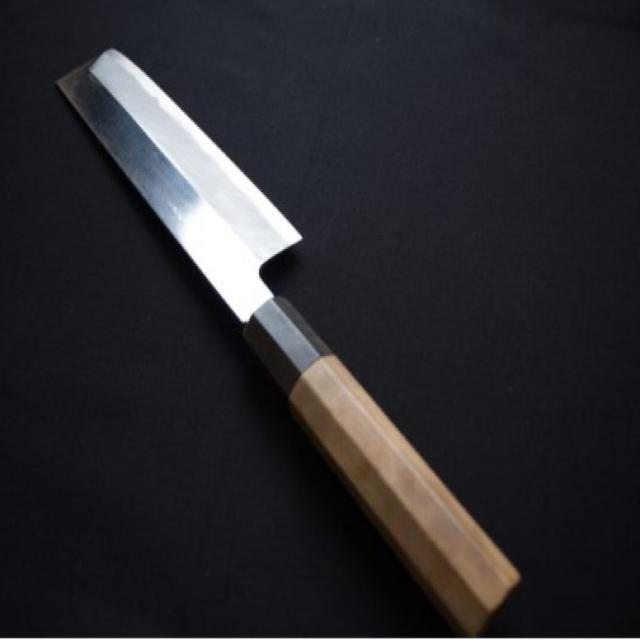Knife: (52, 27, 584, 640)
